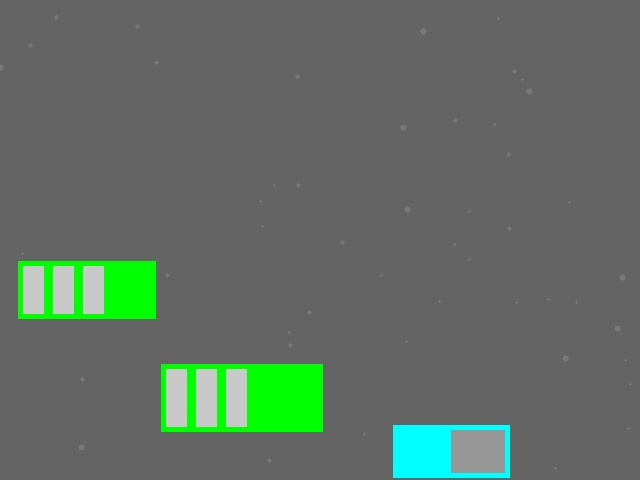bus: (161, 364, 322, 431), (18, 261, 155, 318)
truck: (393, 425, 509, 477)
